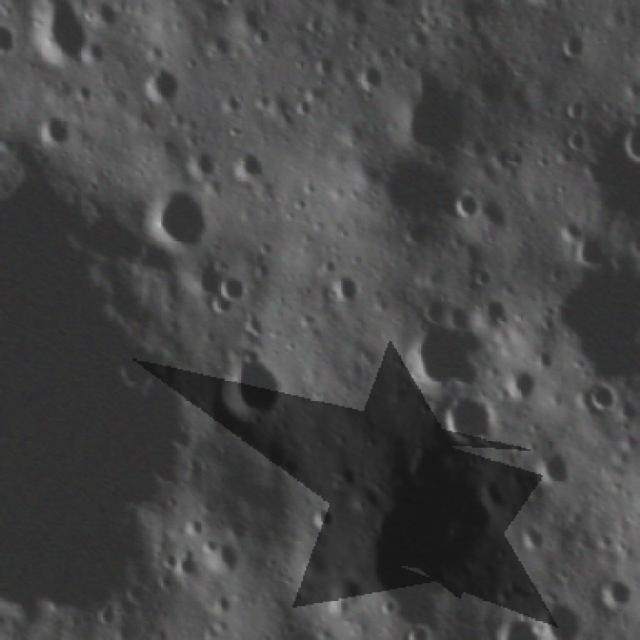crater: (355, 438, 490, 633), (356, 152, 464, 250), (402, 303, 495, 392), (403, 63, 482, 163), (207, 342, 285, 431), (142, 188, 225, 255), (36, 0, 98, 74), (430, 386, 504, 445), (137, 59, 191, 107), (540, 588, 588, 638), (531, 442, 577, 492), (576, 378, 626, 419), (232, 140, 271, 189), (200, 536, 246, 576), (575, 232, 620, 272), (35, 110, 73, 155), (512, 362, 552, 404), (348, 54, 389, 92), (516, 516, 555, 555), (557, 26, 591, 66), (302, 493, 336, 533), (326, 270, 360, 308), (215, 271, 251, 306), (308, 45, 342, 80), (456, 188, 490, 222), (600, 577, 634, 609), (212, 90, 246, 116), (0, 18, 20, 60), (553, 218, 587, 242), (249, 25, 277, 53), (564, 93, 590, 122), (568, 128, 594, 150)
